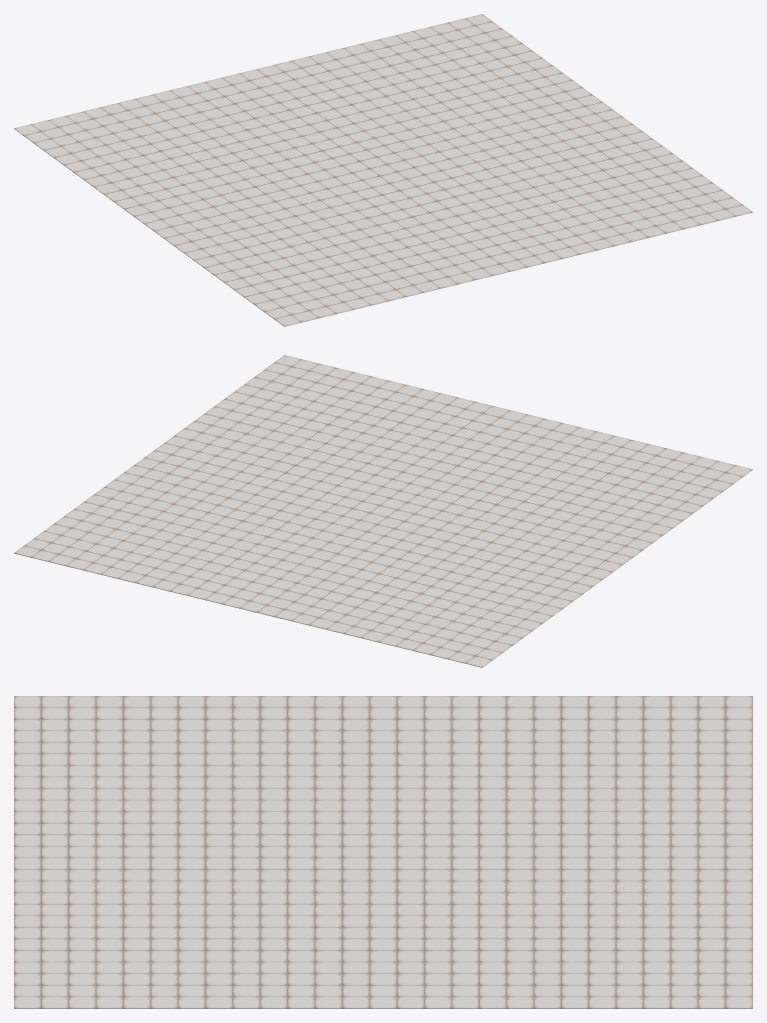
Rendered from tile729.obj.
3 renders of one model, top to bottom at view 1: azimuth 30°, elevation 25°; view 2: azimuth 150°, elevation 25°; view 3: azimuth 270°, elevation 25°, orthographic. The views are drawn at different scales.
Bounding box in the file's own units: 27 × 0.025 × 27.
